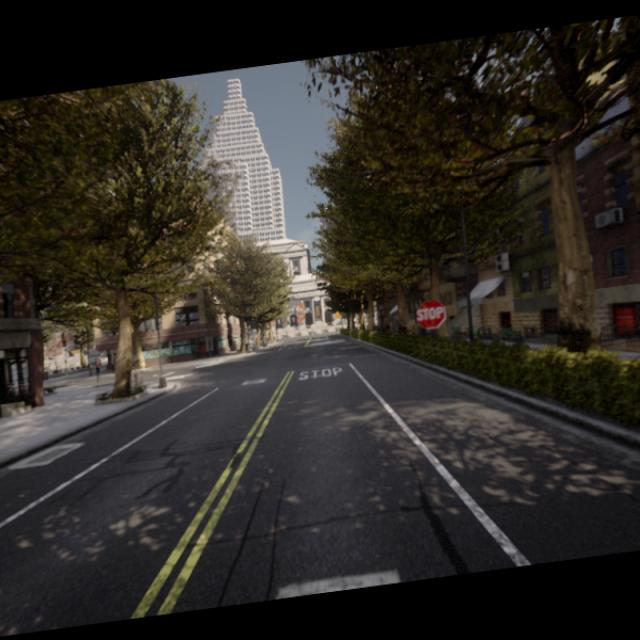stop sign: (413, 296, 447, 332)
